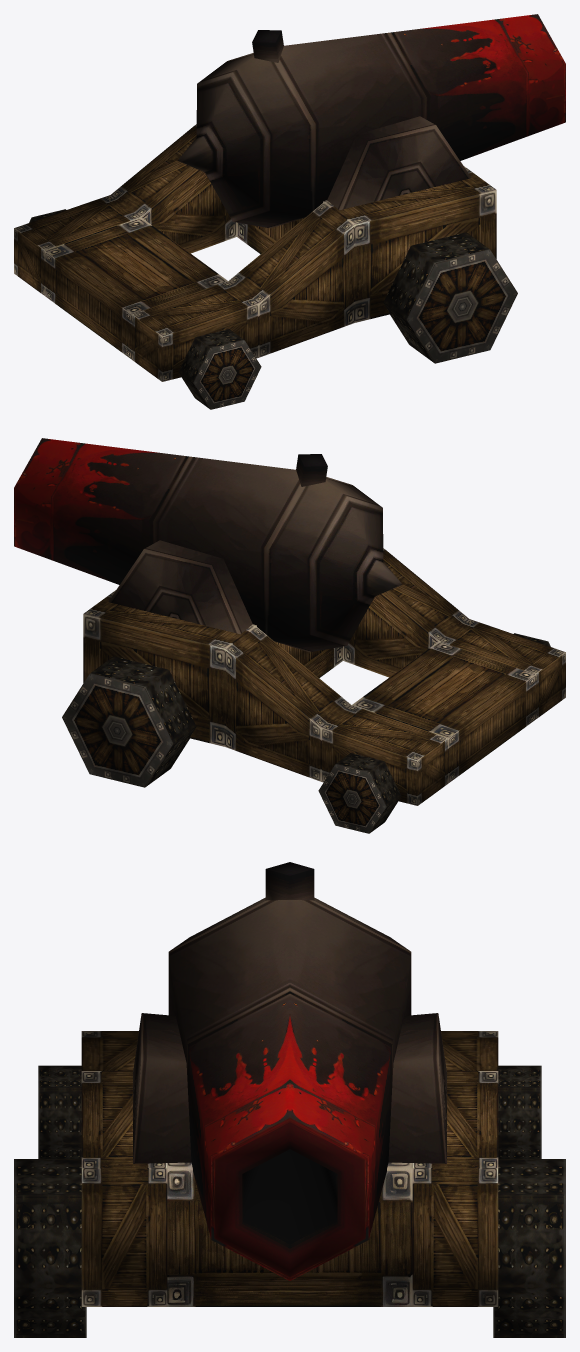
File: deadminescannon01.obj
The picture shows the model from 3 angles, top to bottom: view 1: azimuth 30°, elevation 25°; view 2: azimuth 150°, elevation 25°; view 3: azimuth 270°, elevation 25°; orthographic projection. The views are drawn at different scales.
Parts seen in each view (by area): view 1: deadminescannon01; view 2: deadminescannon01; view 3: deadminescannon01.
Part boxes in pixels (box(x1,y1,x2,y2)): deadminescannon01: box(14, 14, 565, 409); deadminescannon01: box(14, 438, 565, 833); deadminescannon01: box(14, 862, 565, 1337).
Bounding box in the file's own units: 7.64 × 4.46 × 5.77.
Materials: 1 (1 with a texture image).
